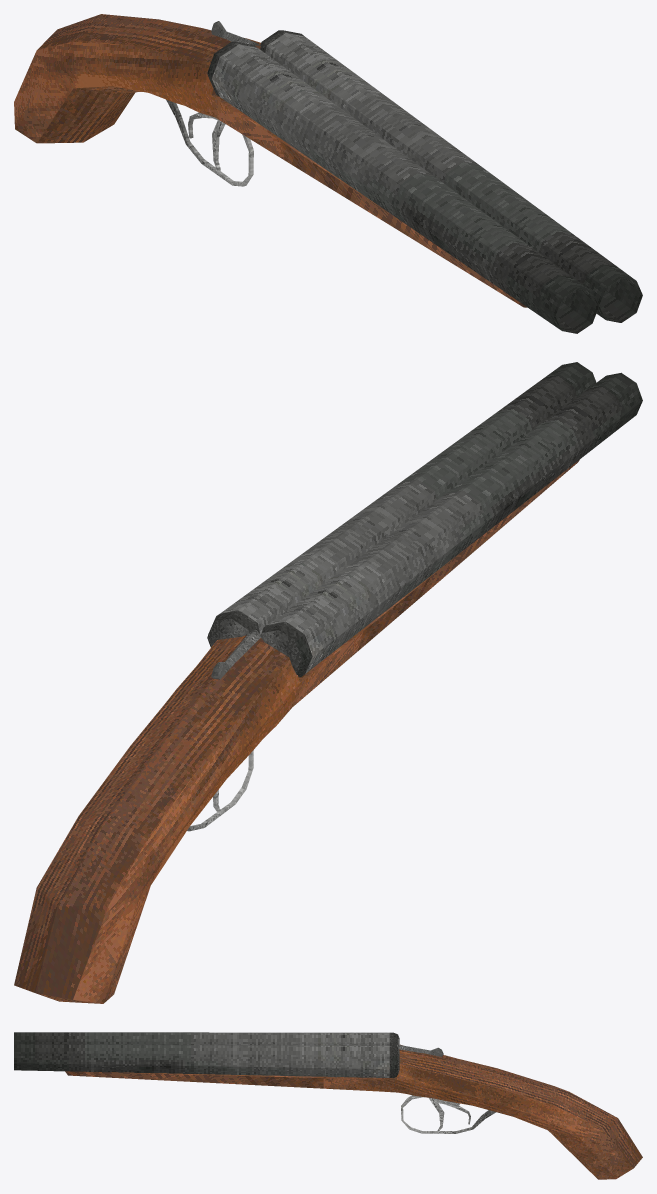
File: psx_sawed_off_remington_1900.glb
3 renders of one model, top to bottom at view 1: azimuth 30°, elevation 25°; view 2: azimuth 150°, elevation 25°; view 3: azimuth 270°, elevation 25°, orthographic. The views are drawn at different scales.
Parts seen in each view (by area): view 1: Object_3, Object_2; view 2: Object_2, Object_3; view 3: Object_3, Object_2.
Part boxes in pixels (x1=…): Object_3: x1=166, y1=21, x2=642, y2=333; Object_2: x1=14, y1=14, x2=527, y2=307; Object_2: x1=14, y1=459, x2=579, y2=1003; Object_3: x1=187, y1=362, x2=642, y2=831; Object_3: x1=14, y1=1032, x2=495, y2=1133; Object_2: x1=65, y1=1044, x2=642, y2=1179.
Bounding box in the file's own units: 0.4983 × 1.12 × 4.81.
3 materials, 3 textured.
